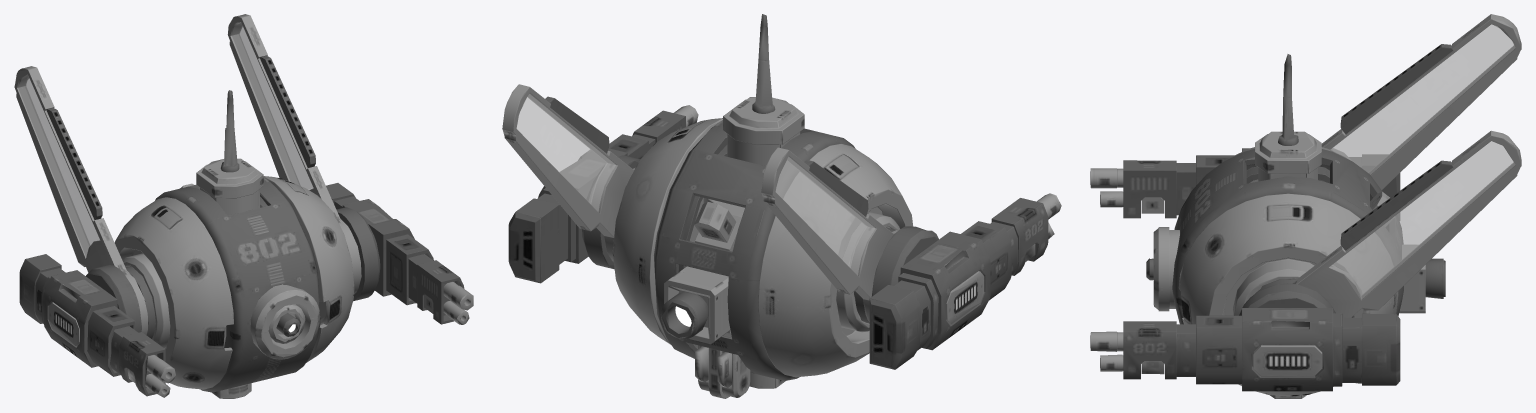
3 renders of one model, left to right at view 1: azimuth 30°, elevation 25°; view 2: azimuth 150°, elevation 25°; view 3: azimuth 270°, elevation 25°, orthographic. The views are drawn at different scales.
Visible parts, largest first — view 1: Cylinder.006_Outside_0, Sphere.007_Glass_0; view 2: Cylinder.006_Outside_0, Sphere.007_Glass_0; view 3: Cylinder.006_Outside_0, Sphere.007_Glass_0.
Part boxes in pixels (x1=…): Cylinder.006_Outside_0: x1=14, y1=14, x2=473, y2=398; Sphere.007_Glass_0: x1=18, y1=23, x2=313, y2=256; Cylinder.006_Outside_0: x1=502, y1=14, x2=1061, y2=398; Sphere.007_Glass_0: x1=516, y1=94, x2=875, y2=274; Cylinder.006_Outside_0: x1=1090, y1=14, x2=1521, y2=398; Sphere.007_Glass_0: x1=1330, y1=24, x2=1515, y2=298.
Size of the model in its own units: 3.25 by 2.8 by 3.26.
Materials: 3 (2 with a texture image).
